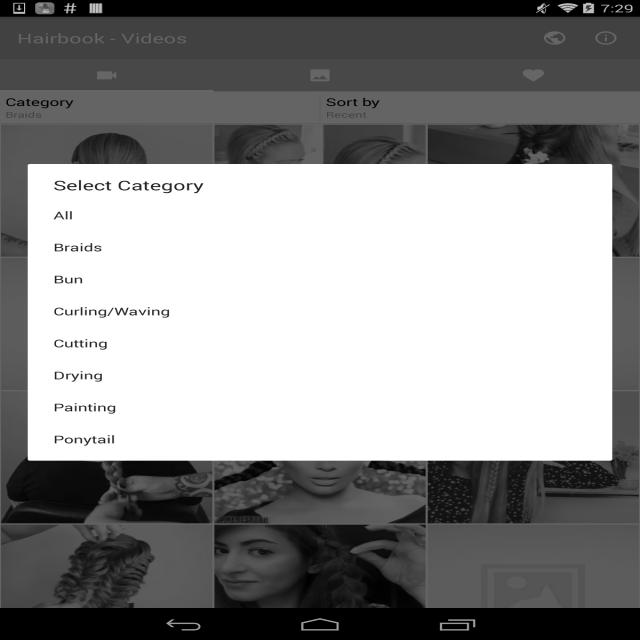ImageButton: (532, 27, 573, 48), (589, 28, 624, 48)
ImageView: (23, 467, 608, 606), (17, 125, 625, 164), (506, 62, 557, 86), (85, 63, 133, 84), (296, 64, 343, 84)
TextView: (47, 171, 208, 198), (16, 27, 198, 50), (50, 300, 182, 320), (2, 93, 100, 113), (44, 428, 130, 448), (46, 366, 117, 386), (319, 94, 393, 112), (50, 401, 122, 414), (48, 206, 86, 224)
